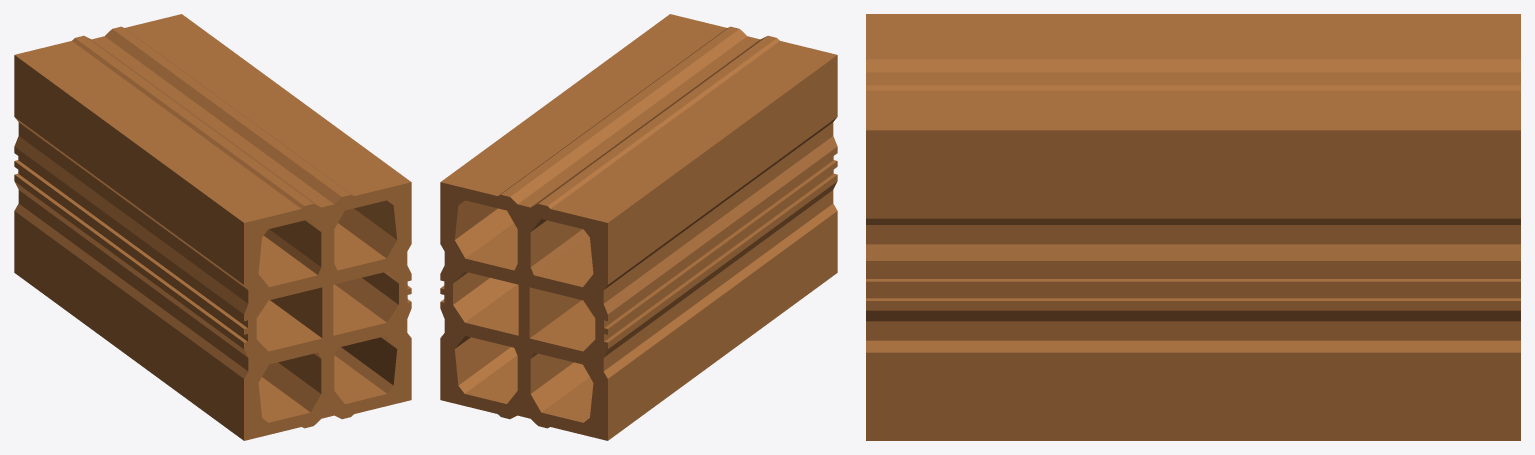
File: ladrillo_hueco_doble.glb
3 views of the same model, side by side, from view 1: azimuth 30°, elevation 25°; view 2: azimuth 150°, elevation 25°; view 3: azimuth 270°, elevation 25° (orthographic). The views are drawn at different scales.
Visible parts, largest first — view 1: Object_2; view 2: Object_2; view 3: Object_2.
Boxes of the visible parts, left/top/right/bottom form: Object_2: left=14, top=14, right=411, bottom=440; Object_2: left=440, top=14, right=837, bottom=440; Object_2: left=866, top=14, right=1520, bottom=440.
Size of the model in its own units: 0.0905 by 0.1148 by 0.215.
